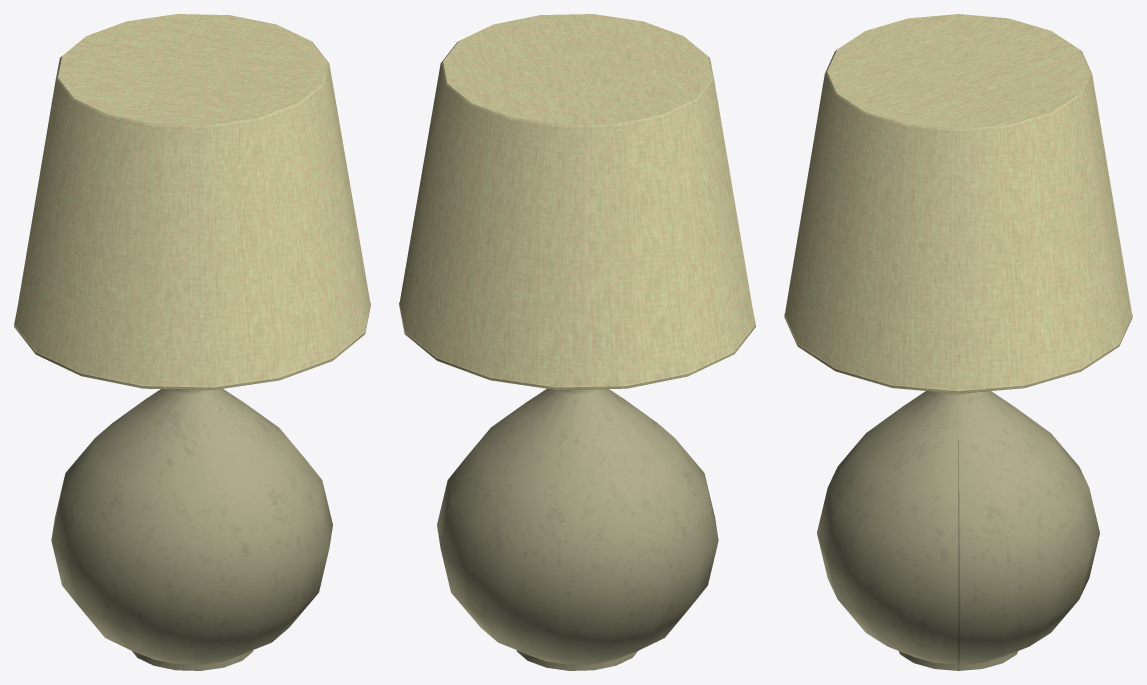
File: Lamp.fbx
The picture shows the model from 3 angles, left to right: view 1: azimuth 30°, elevation 25°; view 2: azimuth 150°, elevation 25°; view 3: azimuth 270°, elevation 25°; orthographic projection.
Visible parts, largest first — view 1: Sphere; view 2: Sphere; view 3: Sphere.
Boxes of the visible parts, x1,y1,x2,y2 form: Sphere: (14,14,370,670); Sphere: (399,14,755,670); Sphere: (784,14,1132,670).
Size of the model in its own units: 94.94 by 166 by 91.6.
